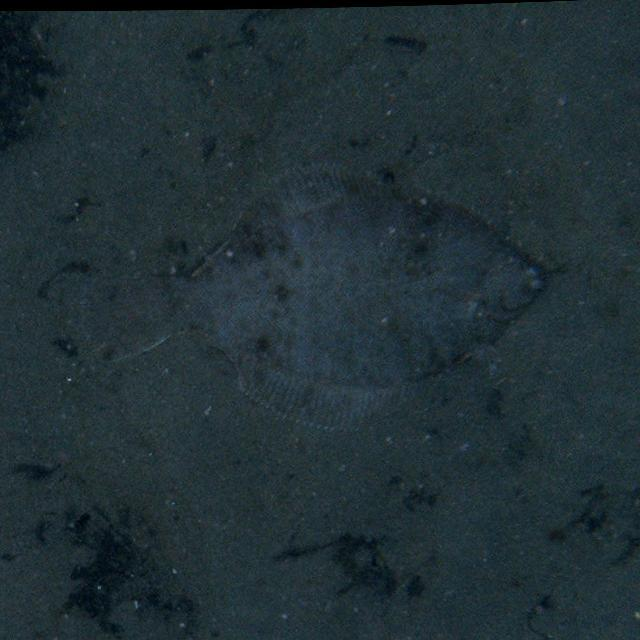flatfish: (65, 170, 547, 438)
